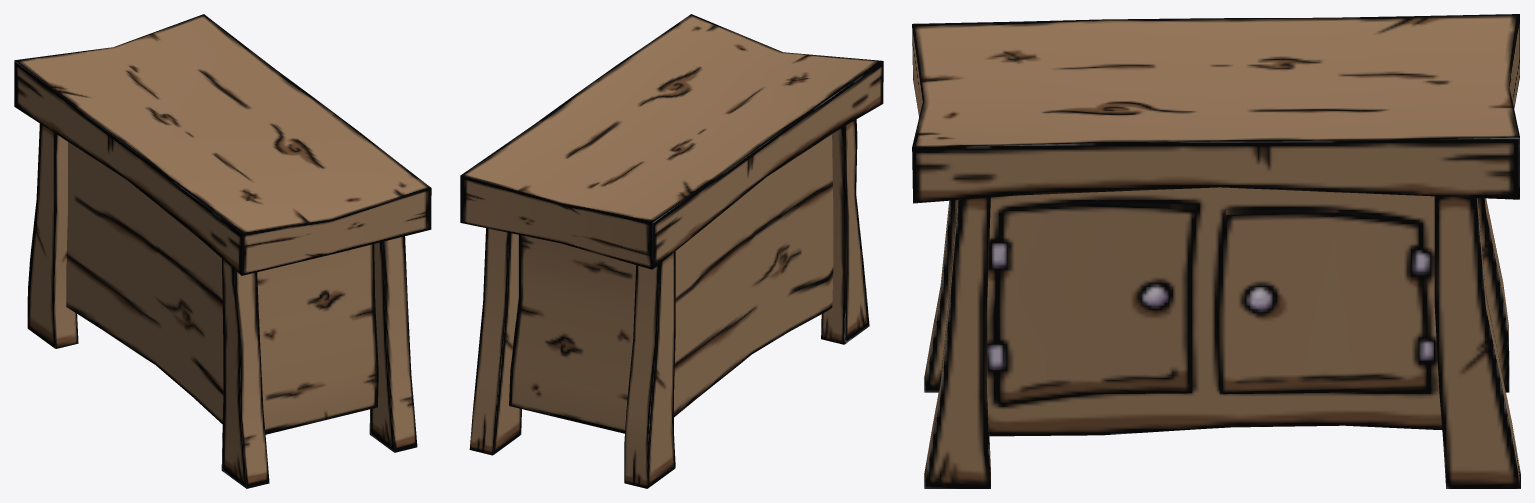
File: szafka_stojąca2.fbx
3 views of the same model, side by side, from view 1: azimuth 30°, elevation 25°; view 2: azimuth 150°, elevation 25°; view 3: azimuth 270°, elevation 25° (orthographic). The views are drawn at different scales.
Visible parts, largest first — view 1: szafka stojąca2; view 2: szafka stojąca2; view 3: szafka stojąca2.
Part boxes in pixels (bbox=[...]): szafka stojąca2: bbox=[14, 14, 431, 488]; szafka stojąca2: bbox=[460, 14, 883, 488]; szafka stojąca2: bbox=[912, 14, 1520, 488].
Size of the model in its own units: 66.72 by 90.06 by 139.
1 material, 1 textured.
